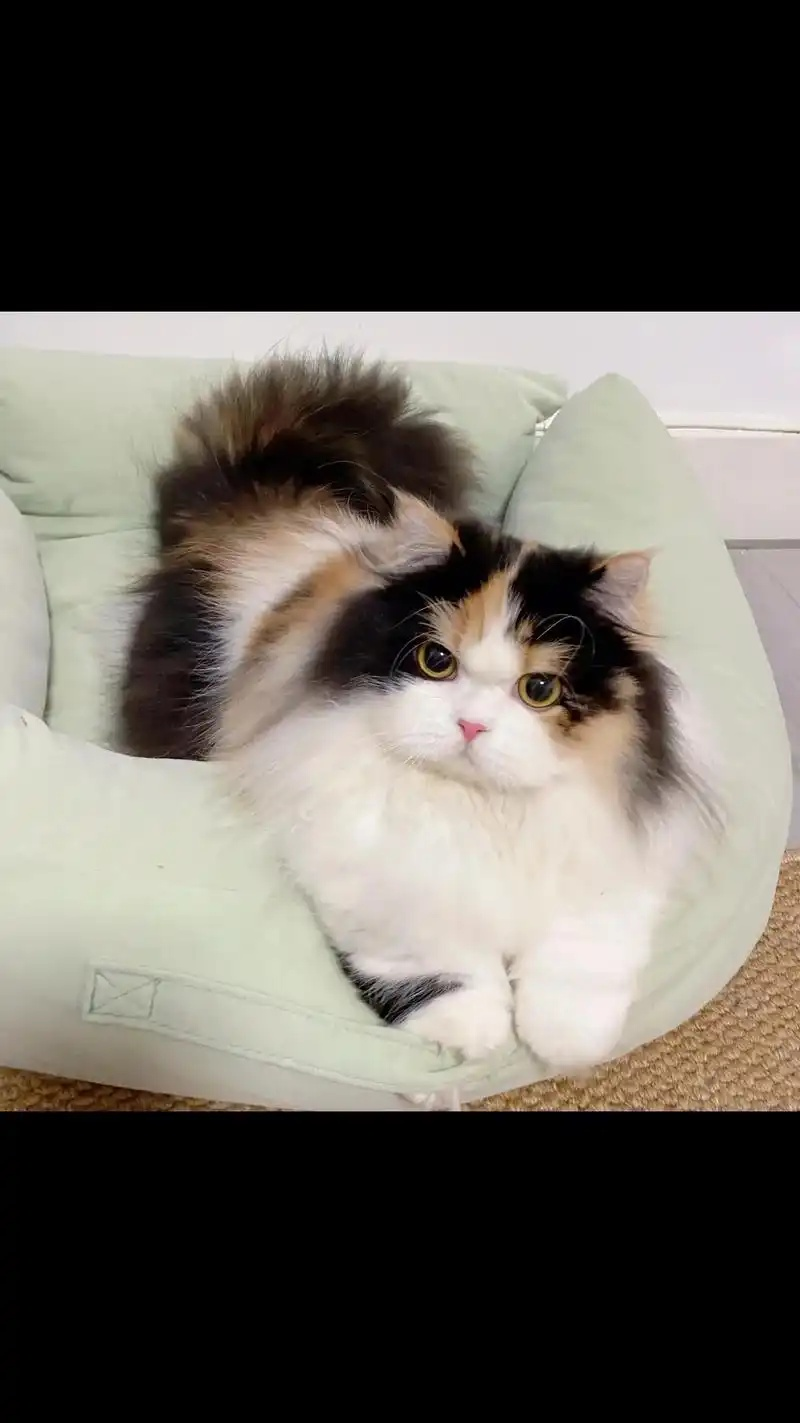三花猫: (123, 357, 720, 1068)
